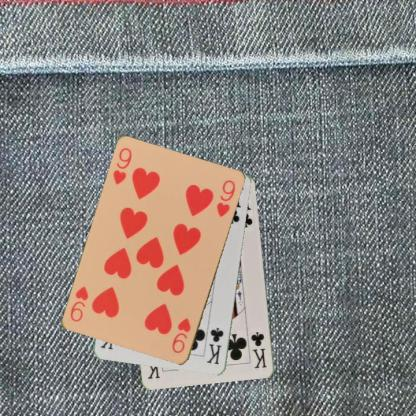9h: (110, 145, 134, 187), (170, 315, 192, 356)
Kc: (204, 325, 225, 366), (249, 329, 268, 370)
